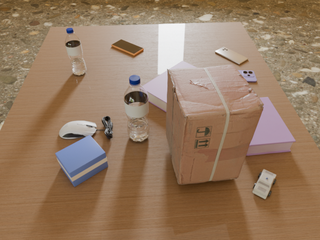book: (246, 97, 296, 156), (143, 61, 196, 112)
bottle: (124, 75, 150, 142), (65, 28, 86, 76)
box: (166, 65, 264, 184), (55, 135, 108, 187)
mouse: (59, 121, 97, 139)
phone: (215, 47, 248, 65), (112, 39, 144, 56), (238, 70, 257, 82)
toy_car: (253, 169, 276, 199)
